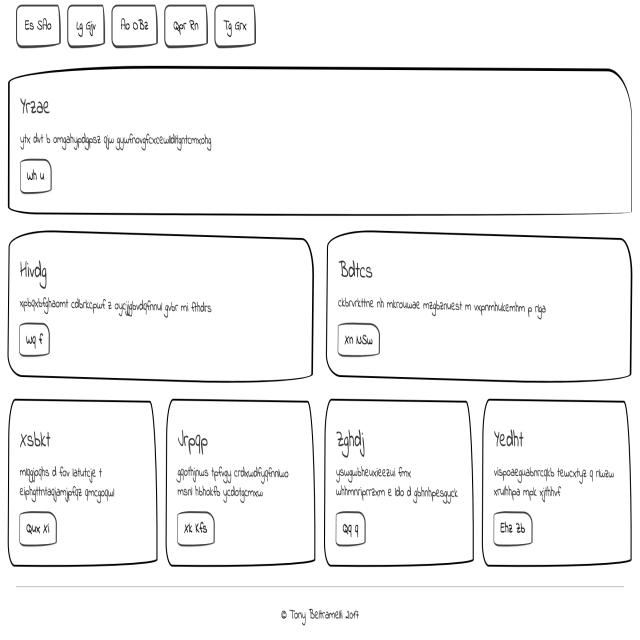Button: (337, 321, 380, 359), (492, 508, 534, 545), (176, 509, 216, 545), (19, 510, 57, 546), (19, 156, 52, 192), (337, 511, 365, 549), (19, 323, 50, 356)
Card: (9, 65, 633, 216), (8, 233, 315, 381), (325, 230, 632, 378), (323, 397, 474, 565), (7, 400, 157, 566), (483, 396, 632, 563), (166, 400, 315, 565)
Footer: (0, 584, 640, 640), (20, 132, 213, 154)
Heading 6: (20, 92, 54, 125), (335, 425, 366, 461), (340, 256, 375, 284), (178, 427, 210, 455), (22, 258, 48, 290), (494, 427, 525, 451), (19, 430, 53, 451)
Navigation Bar: (13, 2, 256, 48)
Paragraph: (336, 292, 548, 320), (492, 463, 616, 504), (336, 464, 459, 505), (21, 291, 216, 316), (175, 465, 291, 502), (18, 466, 117, 506)
